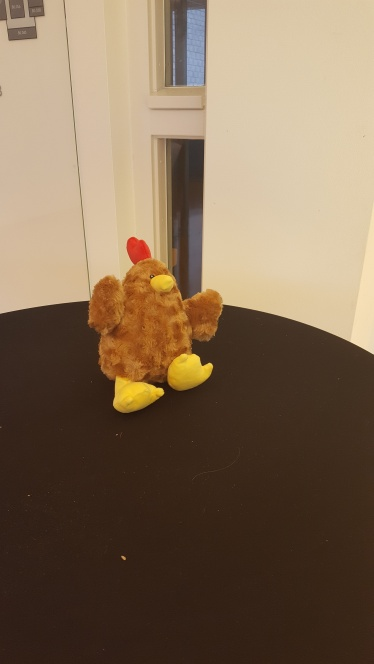chicken_left: (86, 238, 159, 413)
